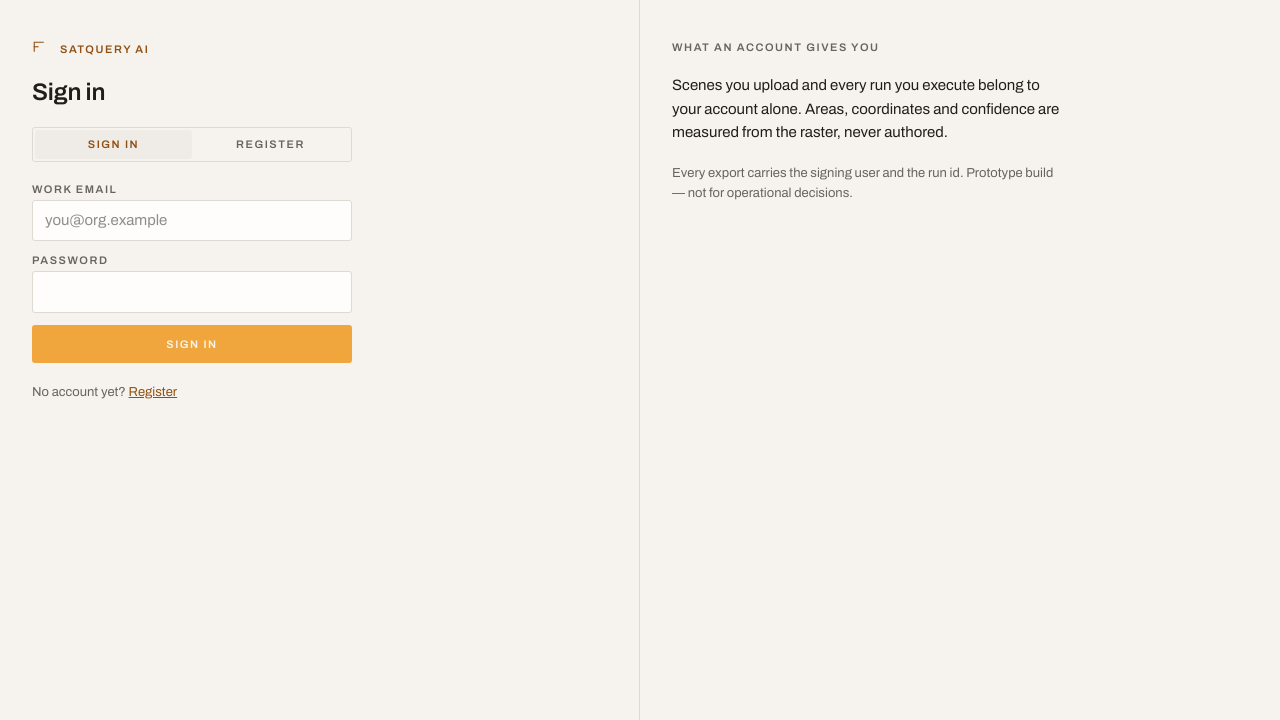
it: signing in › stores the session and continues to the library
Type "analyst@example.com" into the field labelled "Work email".
click(192, 221); type("analyst@example.com")  # box [32, 200, 352, 241]
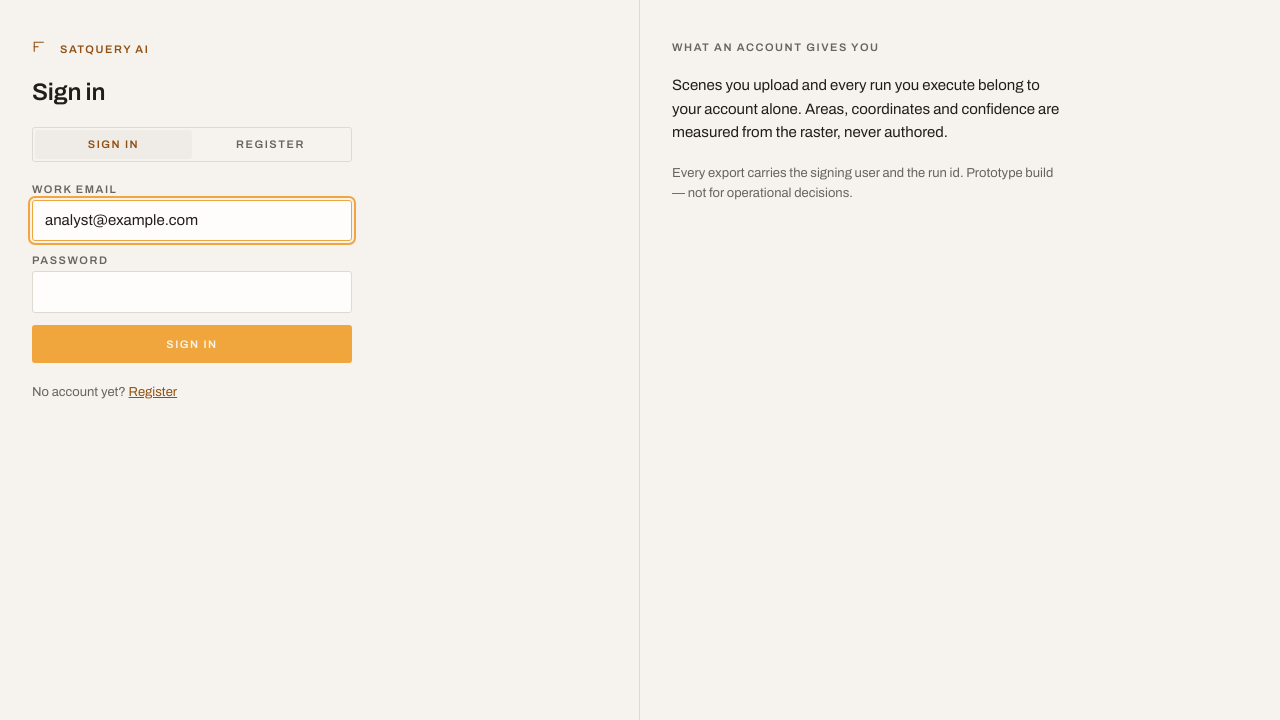
Type "correct-horse-battery" into the password field labelled "Password".
click(192, 292); type("correct-horse-battery")  # box [32, 271, 352, 313]
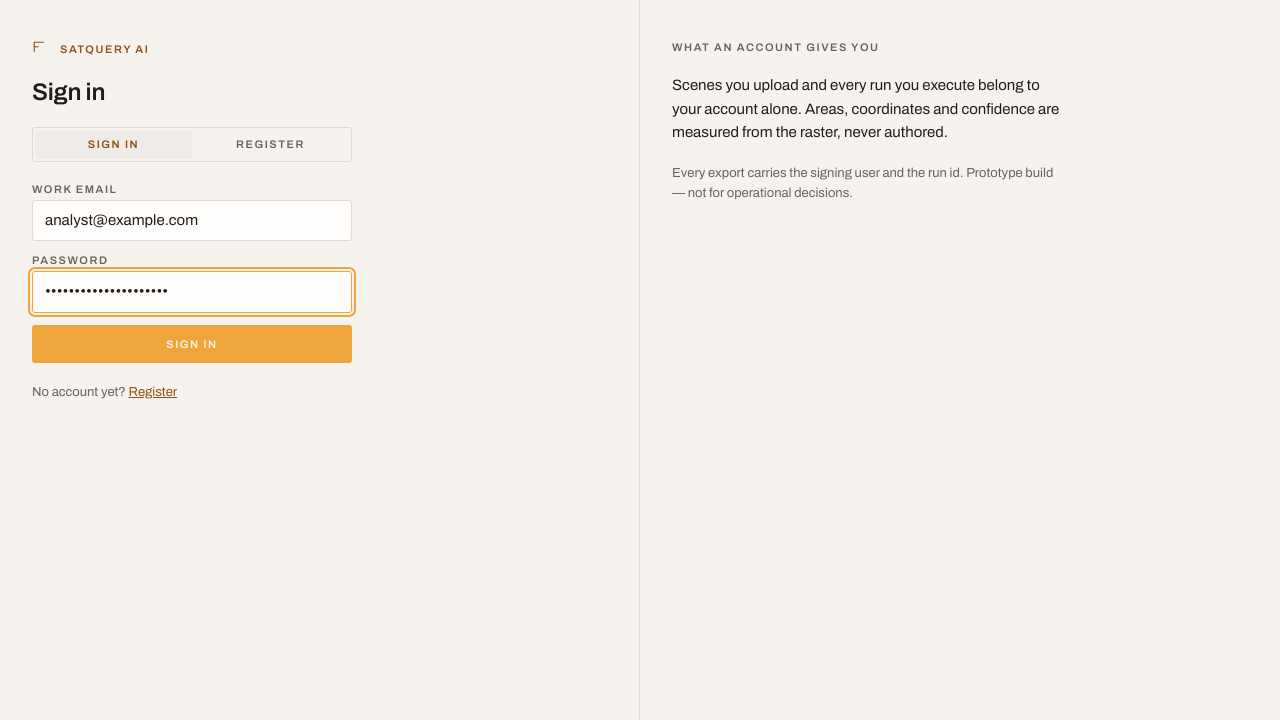
Click the button "Sign in".
click(192, 344)  # box [32, 325, 352, 363]
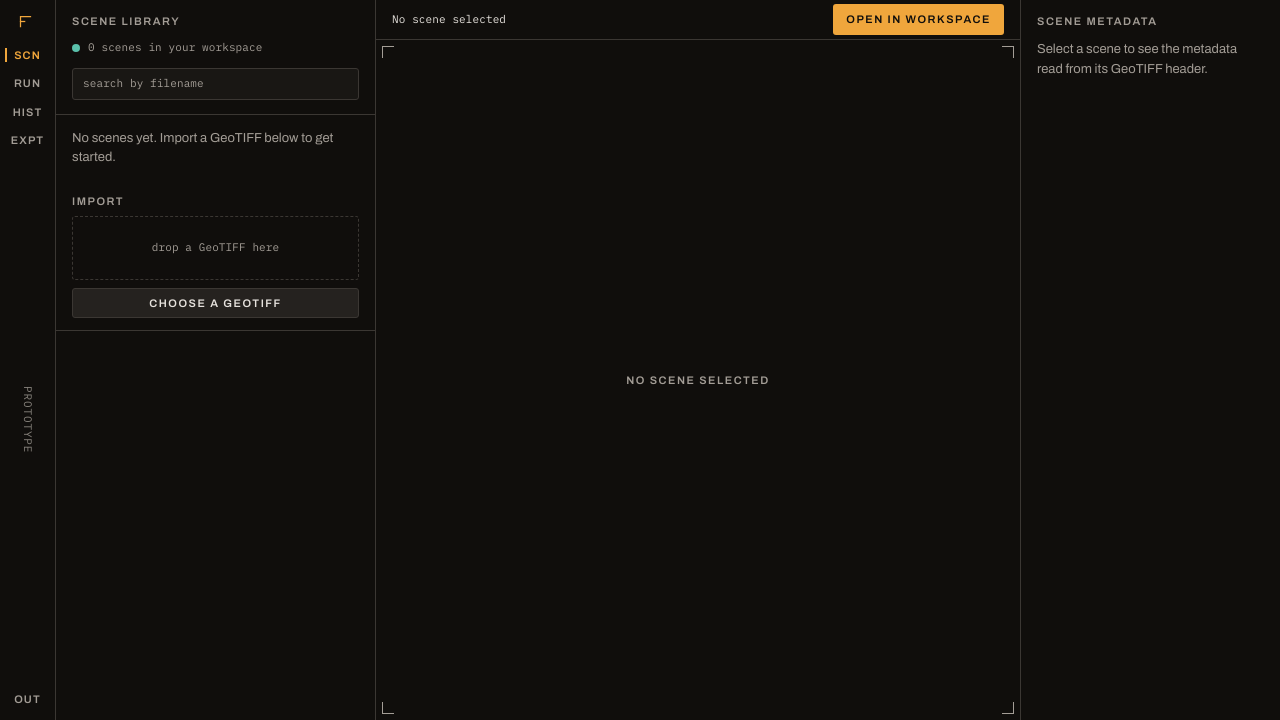
Expected: the text "Scene library" is shown, [72, 15, 180, 27]
